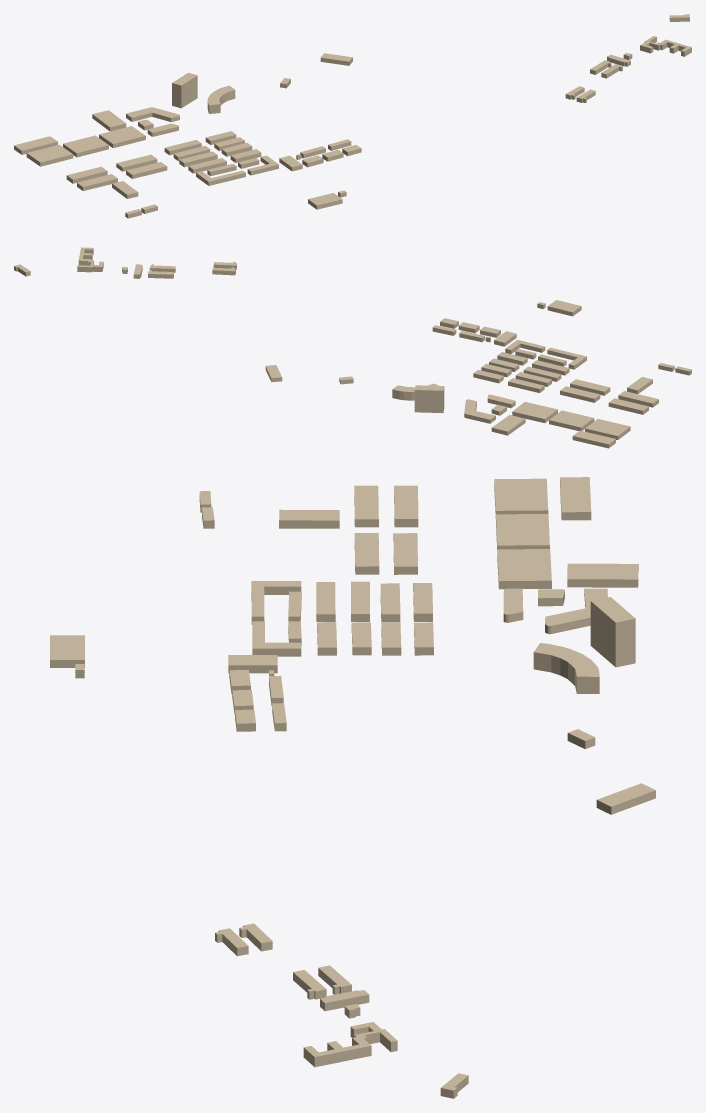
Rendered from overview-estimated--3_2.glb.
3 renders of one model, top to bottom at view 1: azimuth 30°, elevation 25°; view 2: azimuth 150°, elevation 25°; view 3: azimuth 270°, elevation 25°, orthographic. The views are drawn at different scales.
Bounding box in the file's own units: 1941 × 66.14 × 810.
